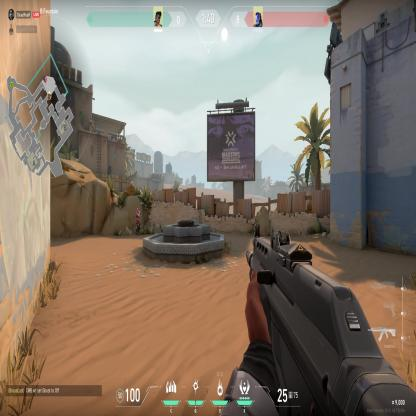enemy: (133, 206, 141, 237)
